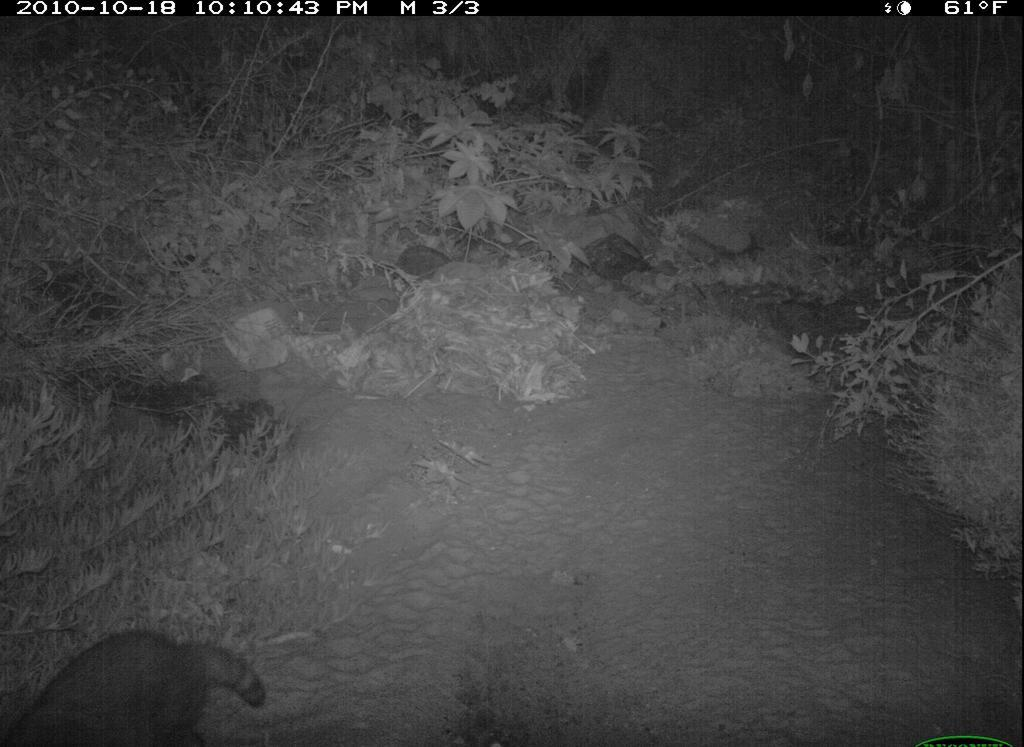raccoon: (2, 621, 289, 747)
